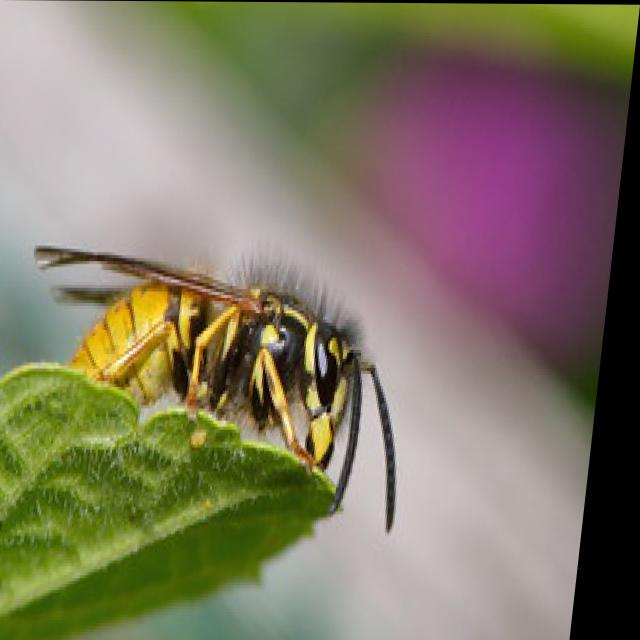Guepe: (0, 176, 469, 535)
